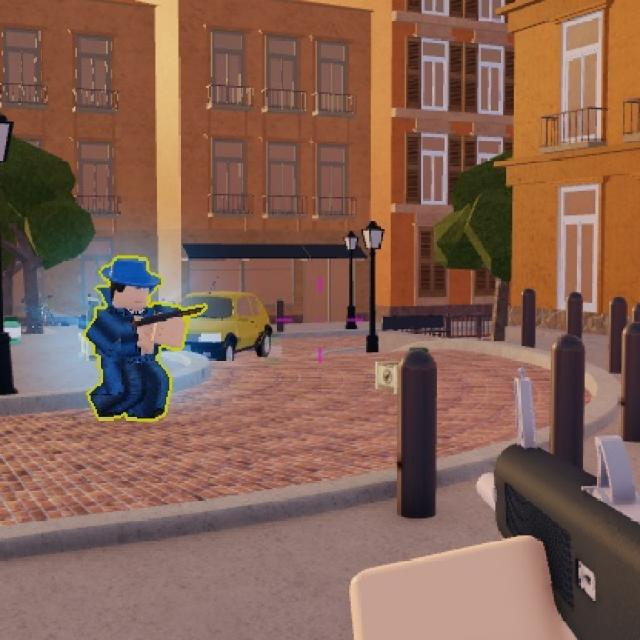player: (81, 248, 179, 421)
